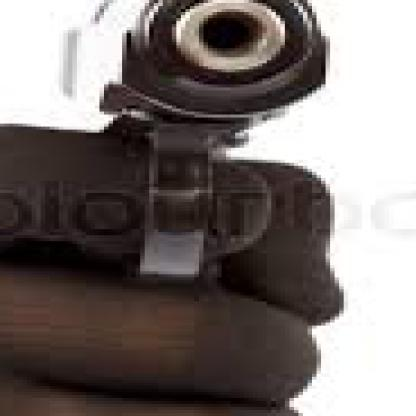gun: (22, 0, 371, 302)
